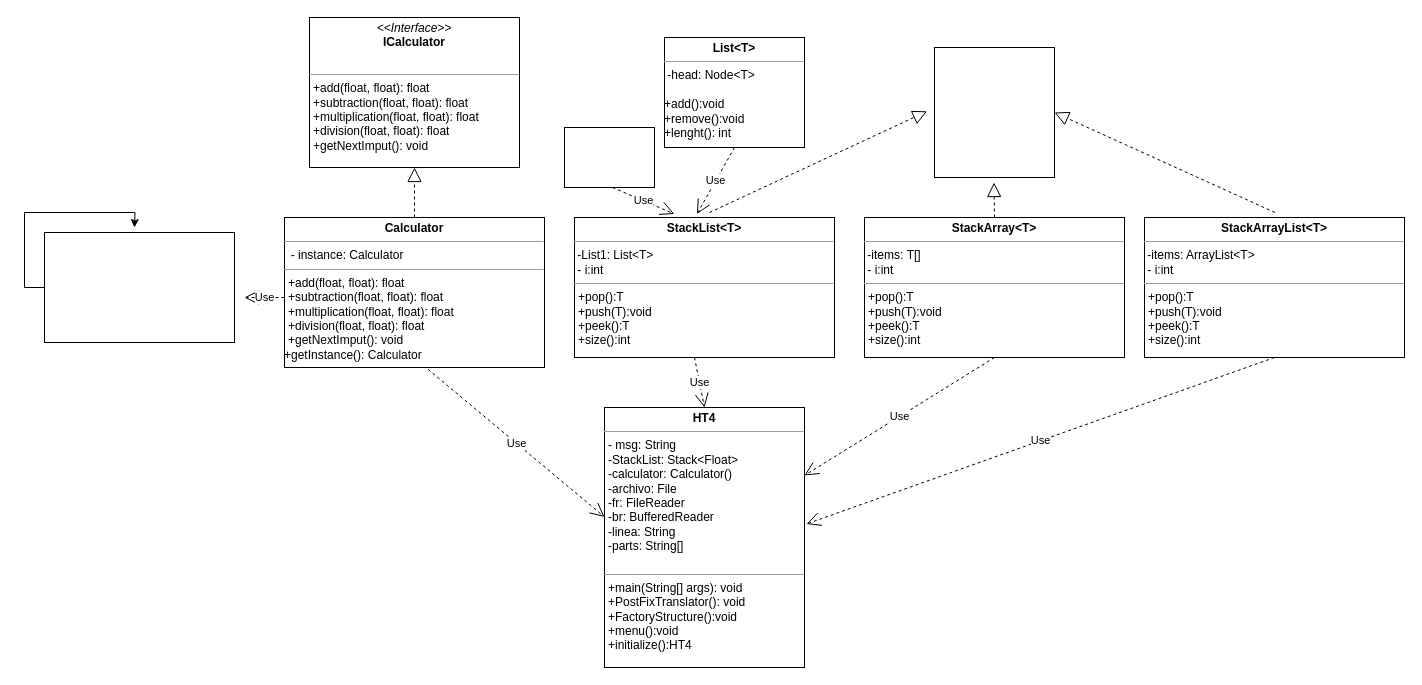
The diagram is 1422 pixels wide and 685 high, and some of its shapes have lost their labels. Each missing label, with the centre of its shape:
"<<Interface>> IStack<T> +pop():T +push(T):void +peek():T +size():int" goes at point 994,112.
"Node<T> -data: T" goes at point 609,157.
"SingleTon - instance: SingleTon +getInstance(): SingleTon -SingleTon(): void" goes at point 139,287.
